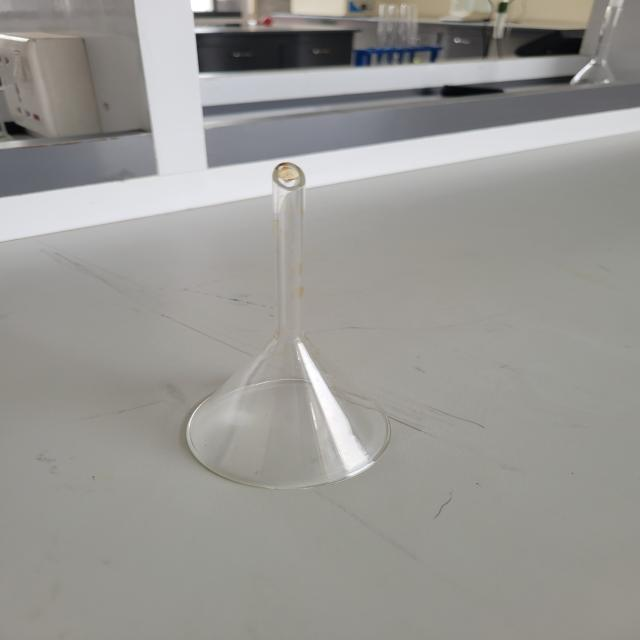Funnel: (140, 124, 421, 517)
